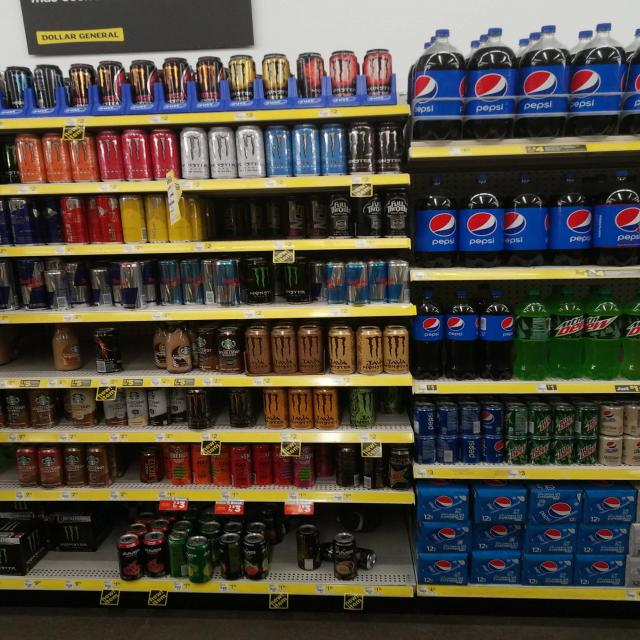empty: (5, 324, 54, 377), (378, 508, 412, 579), (117, 322, 153, 374), (90, 508, 115, 576)
